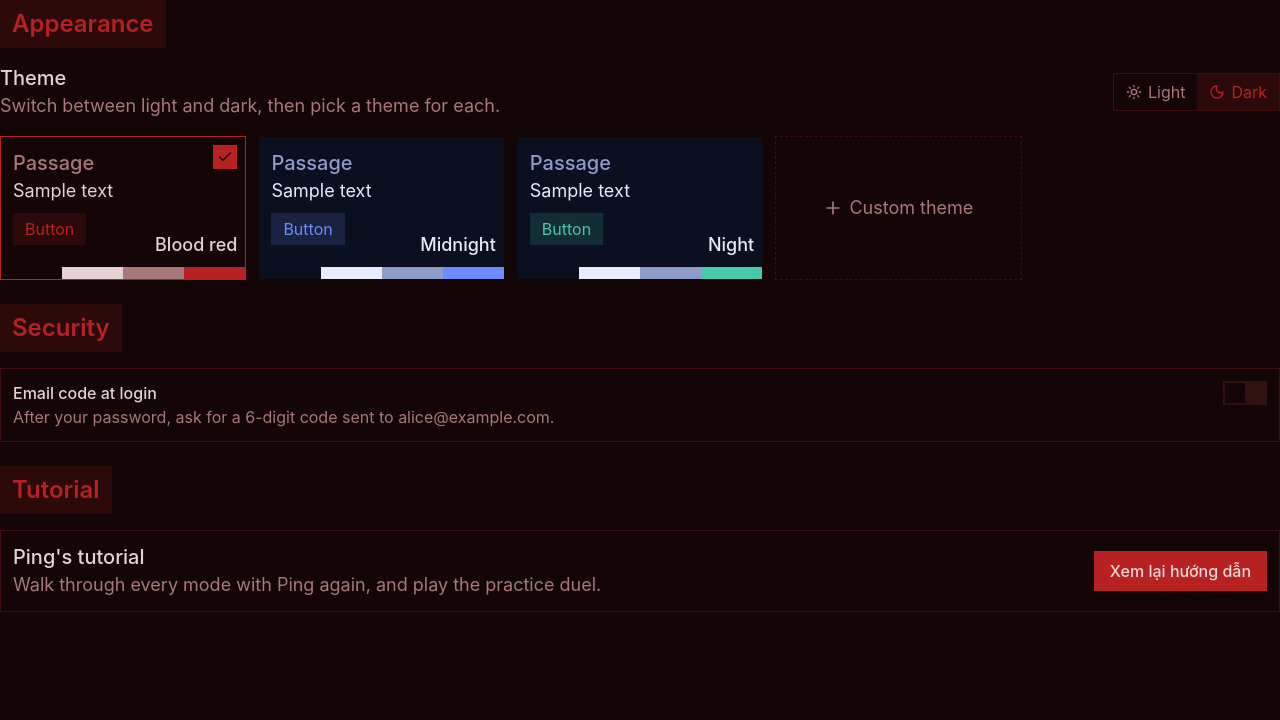
Test: adding a theme › closes the editor when the mode changes
Click the button "Custom theme".
click(898, 208)  # box [775,136,1022,280]
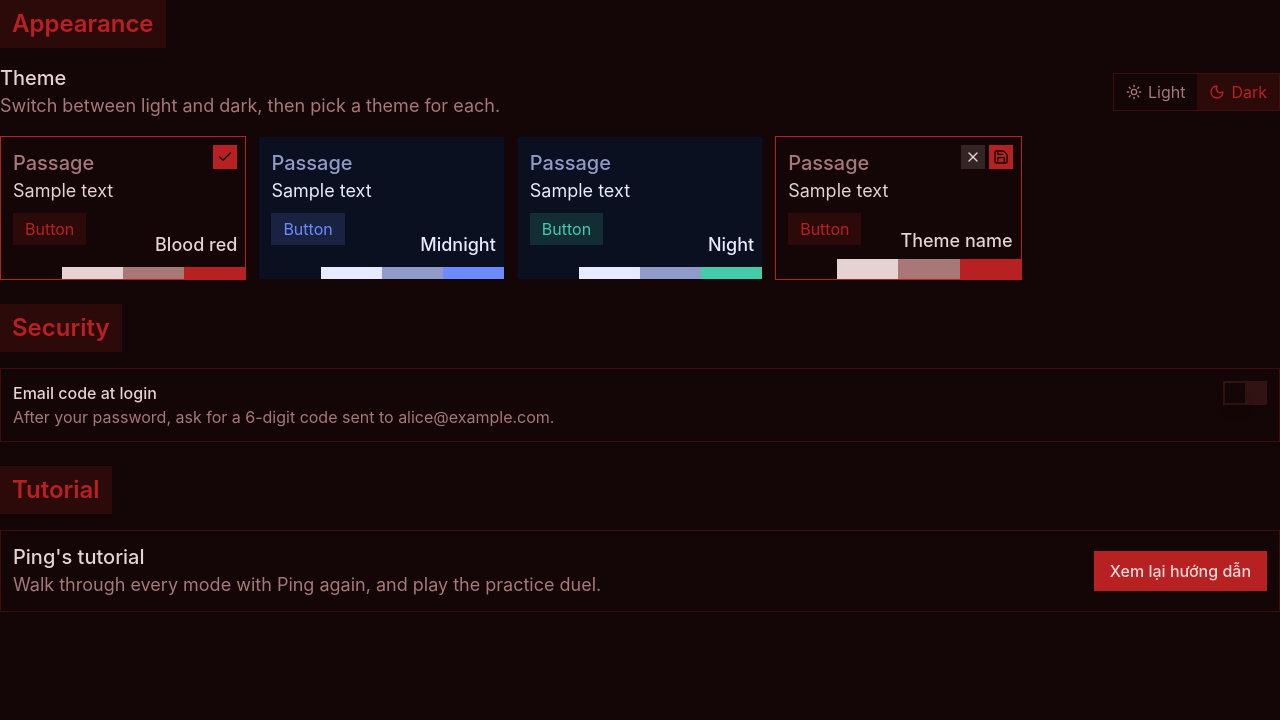
Click the radio button labelled "Light".
click(1156, 92)  # box [1114,74,1197,110]
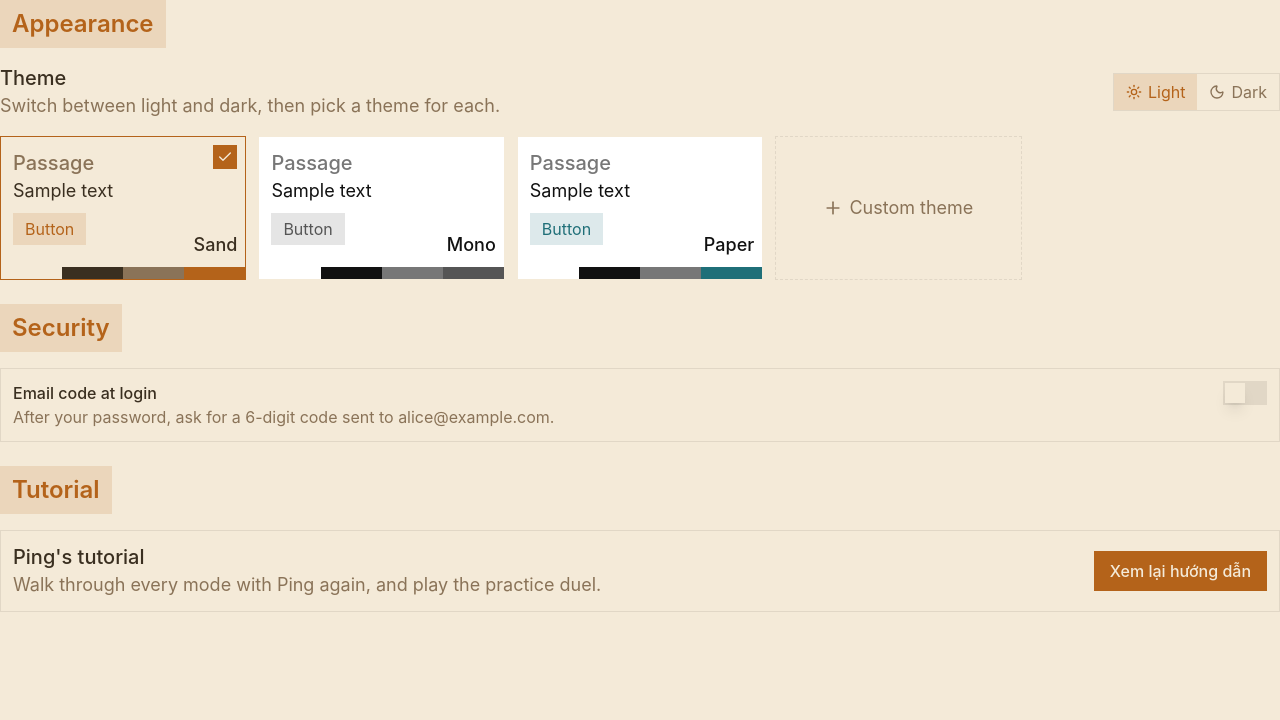
Now the button "Custom theme" is shown, box [775,136,1022,280]
